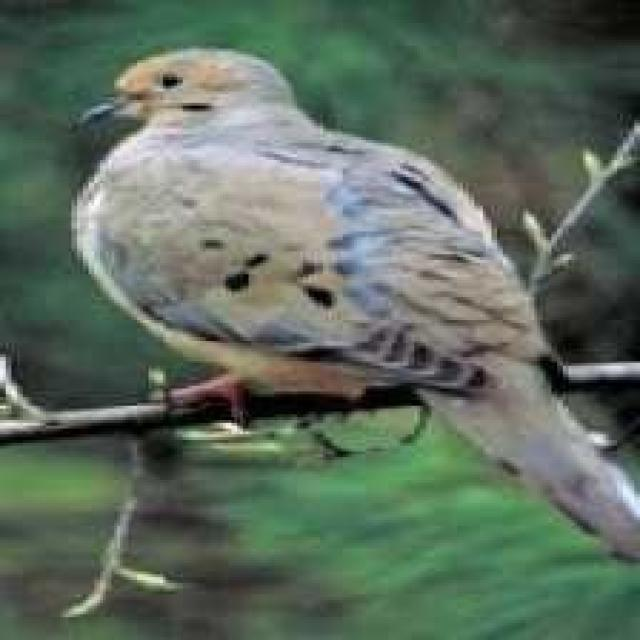dove: (65, 34, 640, 571)
